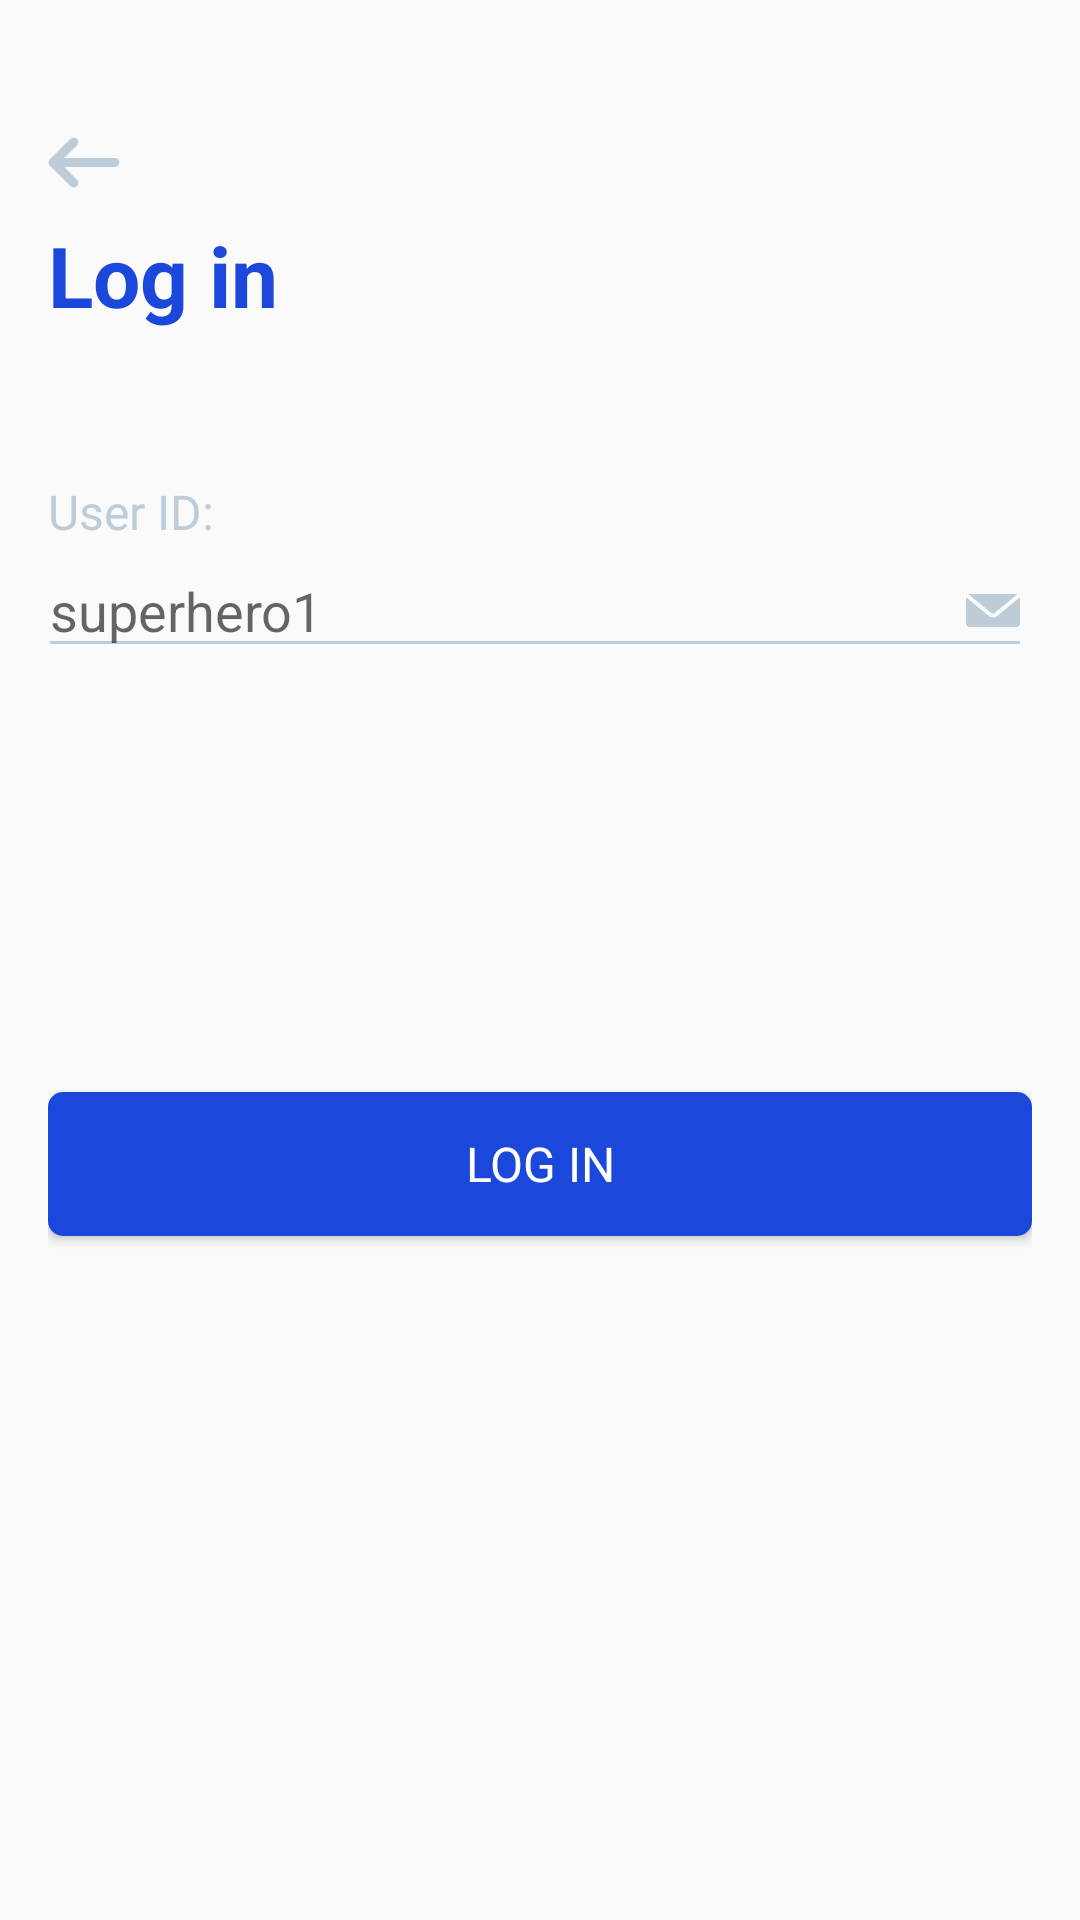

Where icons sit on this 1080×1920 app screen, as [x1, y1, x2, y2]:
back arrow: [49, 138, 119, 187]
